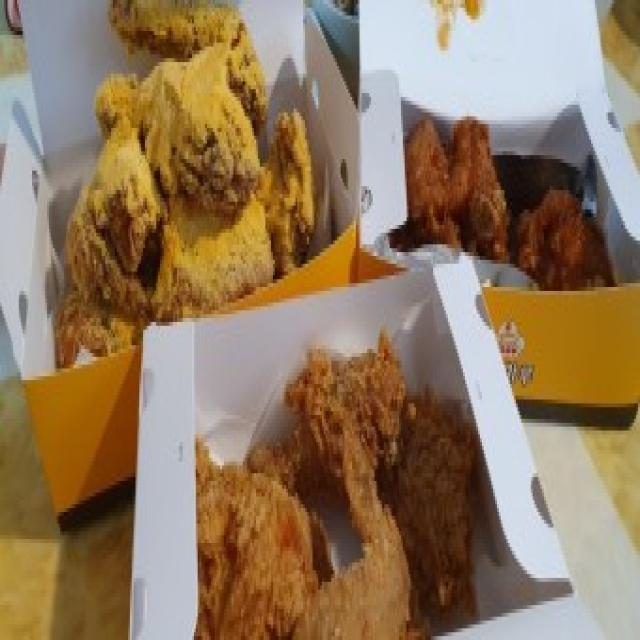Frango: (188, 336, 476, 640), (415, 84, 611, 290)
